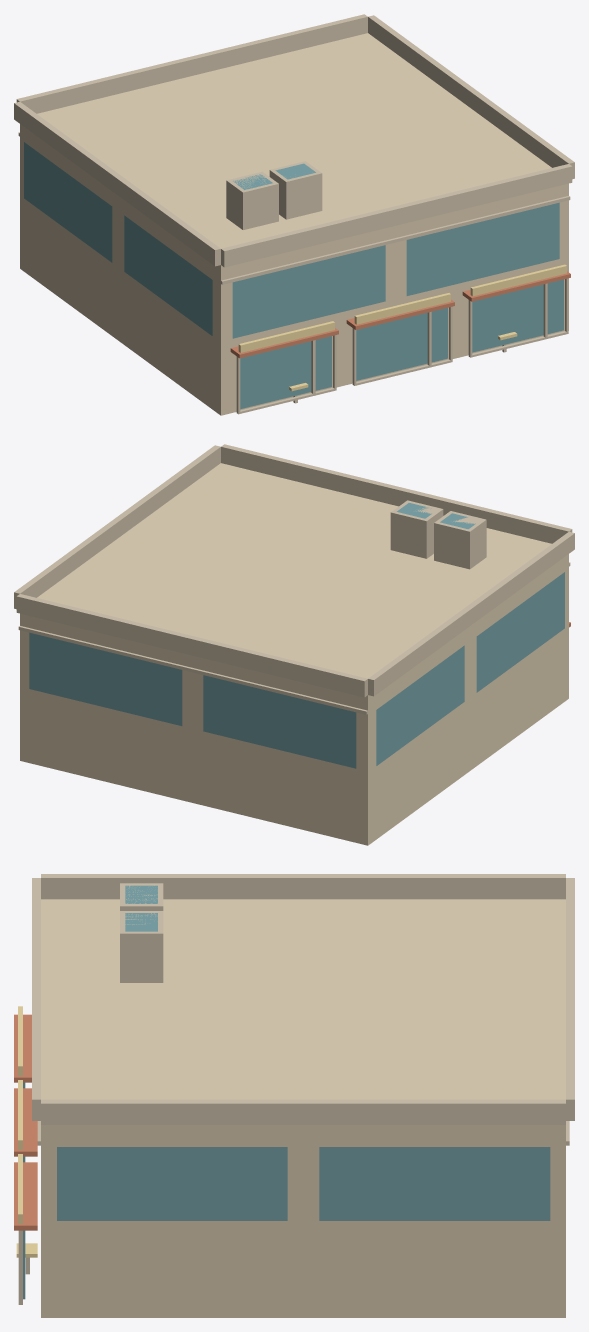
File: commercial_2x2_a.glb
3 renders of one model, top to bottom at view 1: azimuth 30°, elevation 25°; view 2: azimuth 150°, elevation 25°; view 3: azimuth 270°, elevation 25°, orthographic. The views are drawn at different scales.
Parts seen in each view (by area): view 1: commercial_2x2_a_0; view 2: commercial_2x2_a_0; view 3: commercial_2x2_a_0.
Boxes of the visible parts, bbox=[...] form: commercial_2x2_a_0: bbox=[14, 14, 574, 415]; commercial_2x2_a_0: bbox=[14, 444, 574, 845]; commercial_2x2_a_0: bbox=[14, 874, 574, 1317].
Bounding box in the file's own units: 15 × 7.5 × 15.5.
